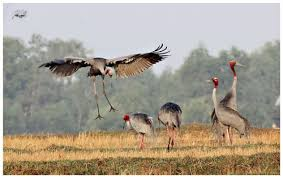seu_dau_do: (40, 45, 173, 115), (205, 76, 248, 145), (212, 60, 246, 136), (121, 112, 154, 150)
